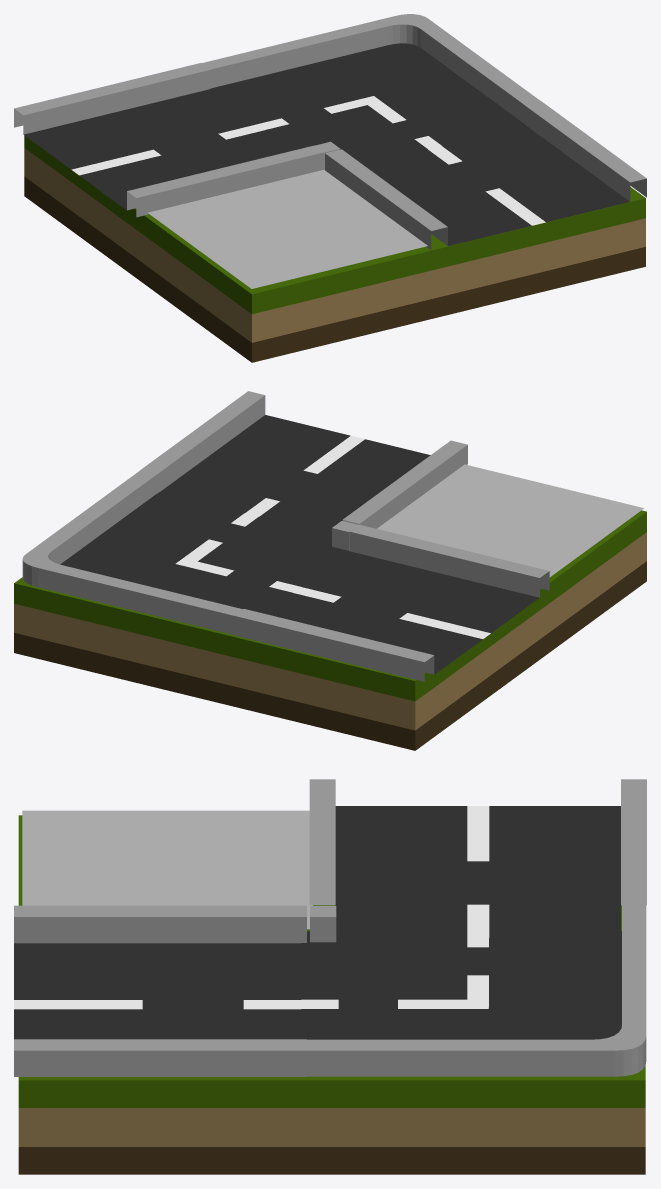
The model's file is rotate road.fbx.
The picture shows the model from 3 angles, top to bottom: view 1: azimuth 30°, elevation 25°; view 2: azimuth 150°, elevation 25°; view 3: azimuth 270°, elevation 25°; orthographic projection. The views are drawn at different scales.
Parts seen in each view (by area): view 1: Plane.019; view 2: Plane.019; view 3: Plane.019.
Boxes of the visible parts, bbox=[...] form: Plane.019: bbox=[14, 14, 646, 362]; Plane.019: bbox=[14, 391, 646, 750]; Plane.019: bbox=[14, 779, 646, 1174].
Size of the model in its own units: 205 by 43.47 by 202.
